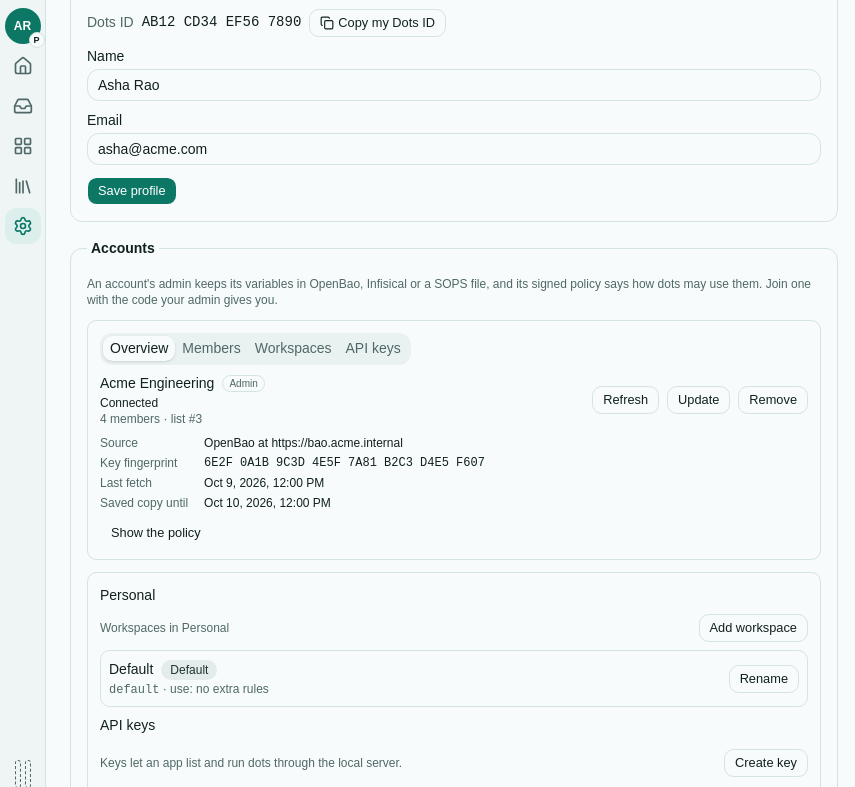
Test: Settings, Accounts › refreshes an org and shows its new status
(page scrolled)
Click the button "Refresh". click: (626, 400)
box: left=592, top=386, right=659, bottom=414
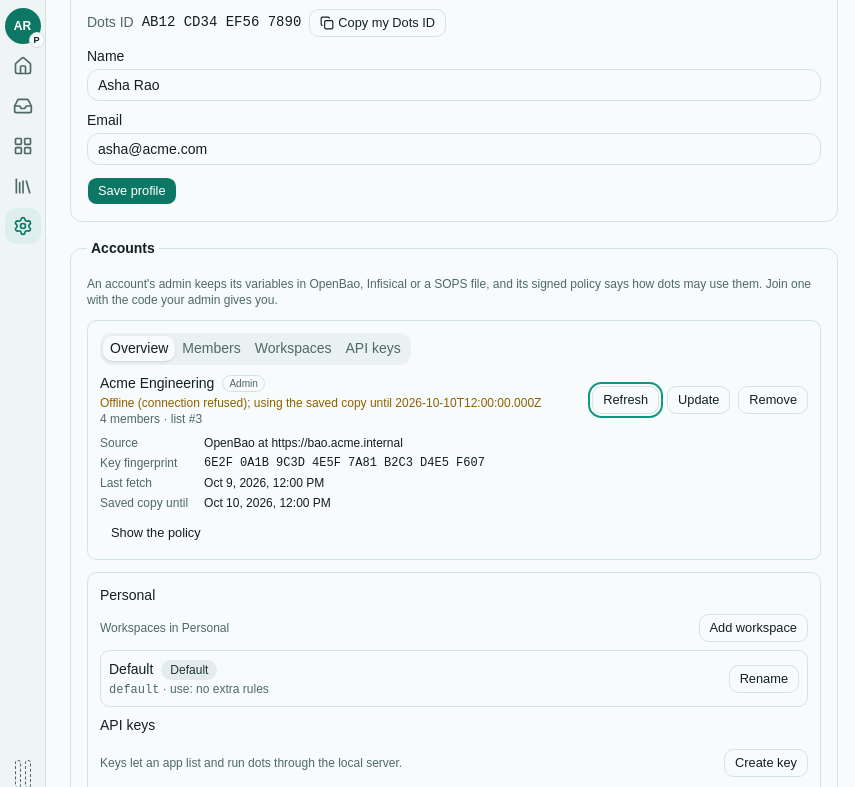
Result: the text "offline (connection refused); using the saved copy until 2026-10-10T12:00:00.000Z" is shown at left=100, top=396, right=541, bottom=410
